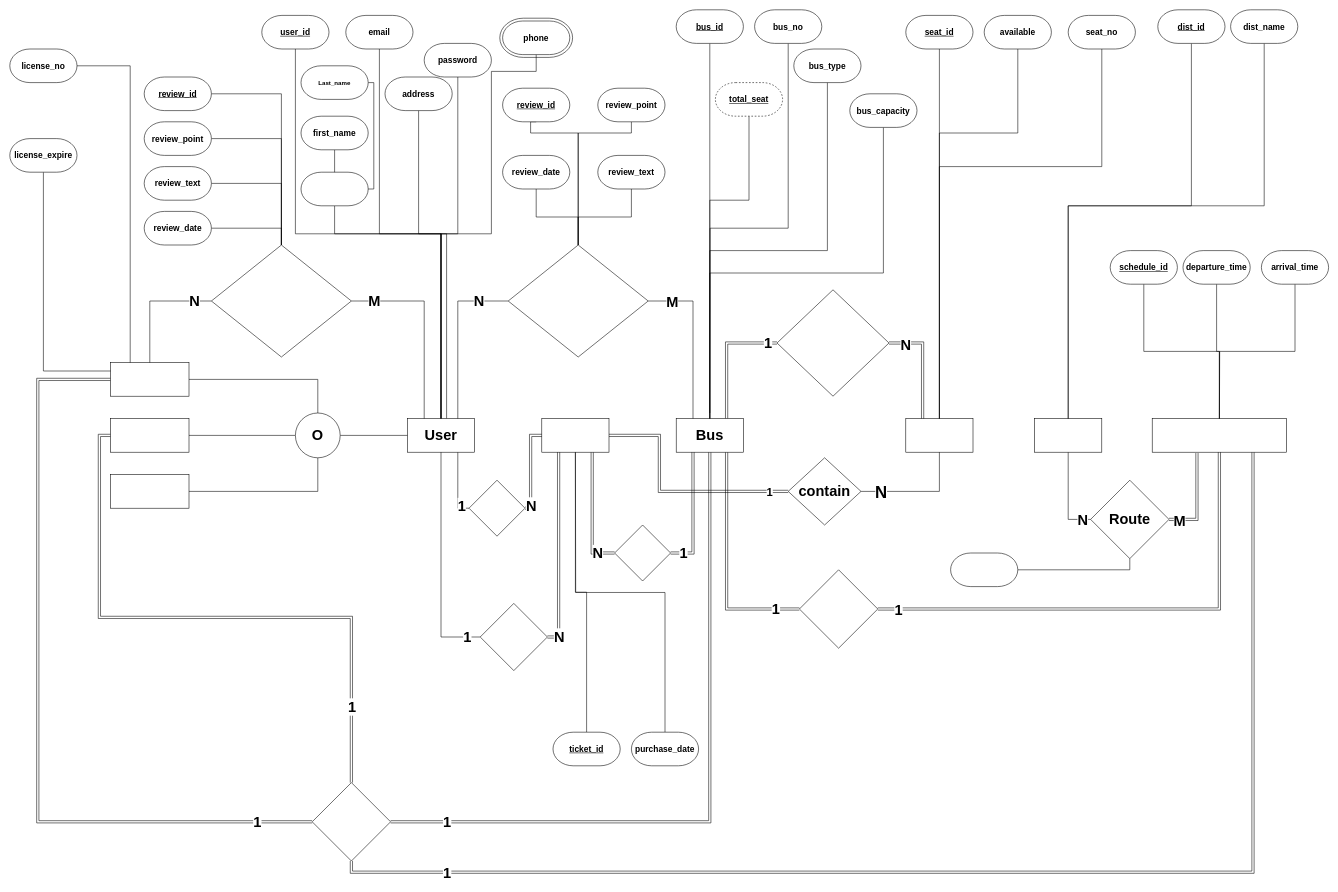
Some shapes in this 1338 by 892 pixel diagram are drawn without their labels. Here are the shapes that lost their labels. From the top down, the centre of each, then its label:
At [334,189]: "Name".
At [281,300]: "DriverReview".
At [578,300]: "BusReview".
At [832,342]: "SeatStatus".
At [149,379]: "BusDriver".
At [149,435]: "Admin".
At [575,435]: "Ticket".
At [939,435]: "Seat".
At [1068,435]: "District".
At [1219,435]: "BusSchedule".
At [149,491]: "General".
At [496,508]: "Buys".
At [642,552]: "For".
At [984,569]: "fare".
At [838,608]: "Schedule".
At [513,637]: "Refund".
At [351,821]: "Assign".
